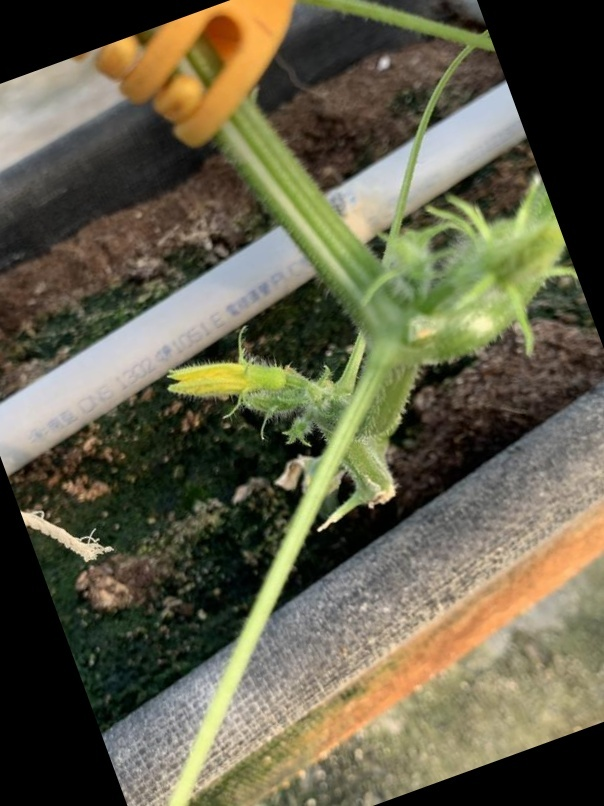bud: (165, 357, 309, 417)
